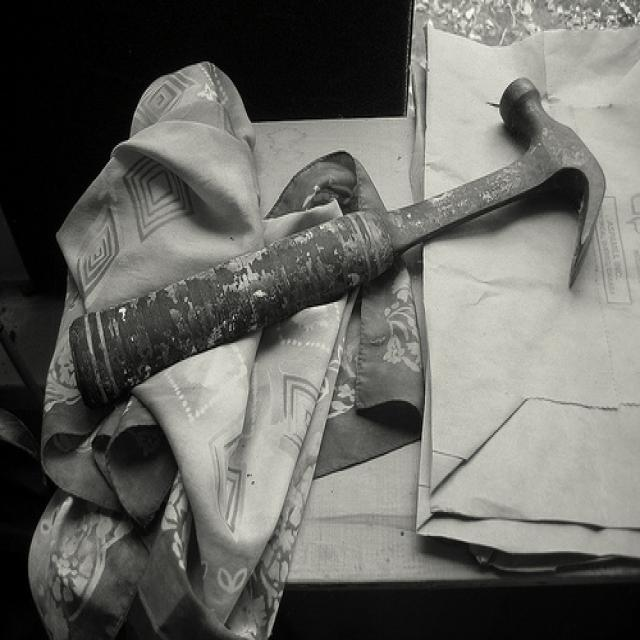hammer: (66, 73, 608, 417)
